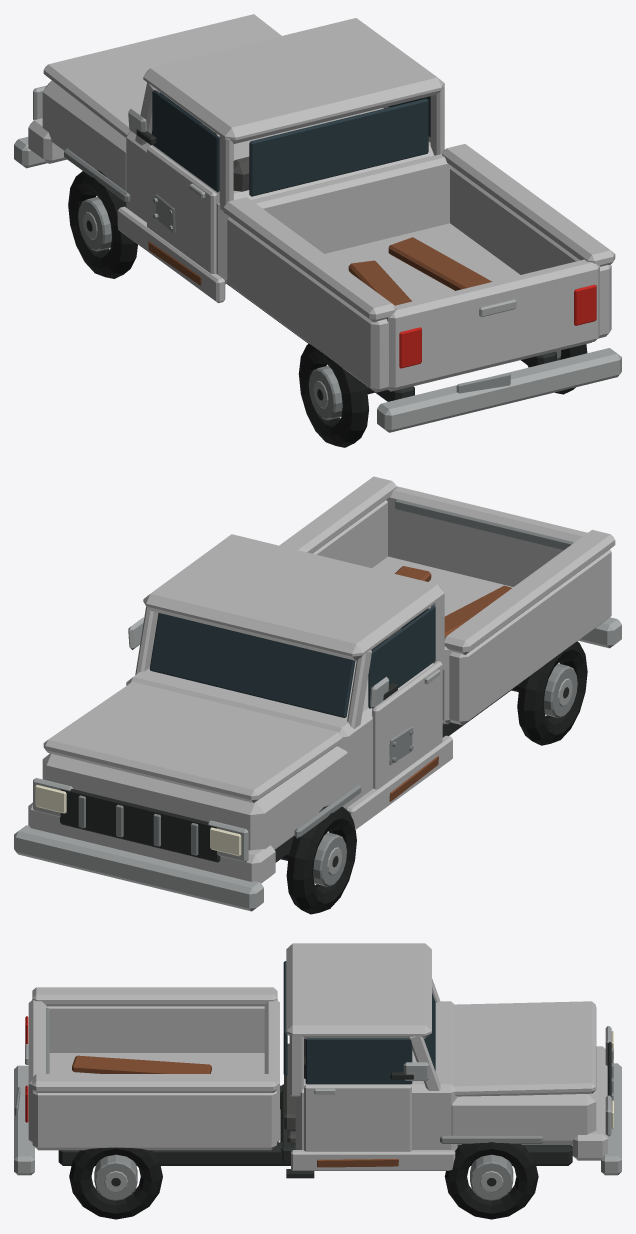
The model's file is pickup.glb.
3 renders of one model, top to bottom at view 1: azimuth 30°, elevation 25°; view 2: azimuth 150°, elevation 25°; view 3: azimuth 270°, elevation 25°, orthographic. The views are drawn at different scales.
Visible parts, largest first — view 1: pickup, Wheel_RL, Wheel_FL; view 2: pickup, Wheel_FL, Wheel_RL; view 3: pickup, Wheel_FR, Wheel_RR.
Boxes of the visible parts, x1,y1,x2,y2 form: pickup: [14, 14, 621, 432]; Wheel_RL: [298, 343, 368, 447]; Wheel_FL: [68, 170, 137, 278]; pickup: [14, 476, 621, 911]; Wheel_FL: [286, 805, 356, 914]; Wheel_RL: [517, 641, 587, 745]; pickup: [14, 943, 621, 1178]; Wheel_FR: [444, 1142, 538, 1219]; Wheel_RR: [69, 1147, 162, 1219].
Size of the model in its own units: 1.99 by 1.8 by 5.18.
